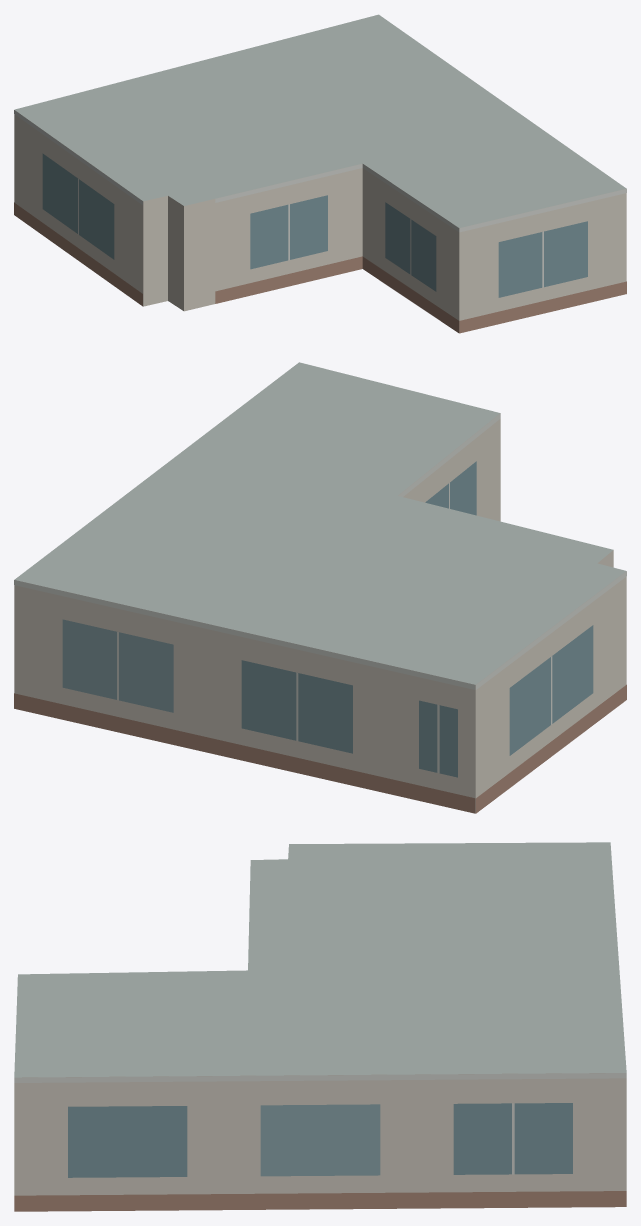
The model's file is survey-upis-32791115.glb.
3 views of the same model, one above another, from view 1: azimuth 30°, elevation 25°; view 2: azimuth 150°, elevation 25°; view 3: azimuth 270°, elevation 25° (orthographic). The views are drawn at different scales.
Parts seen in each view (by area): view 1: survey-upis-32791115.tmp; view 2: survey-upis-32791115.tmp; view 3: survey-upis-32791115.tmp.
Boxes of the visible parts, x1,y1,x2,y2 form: survey-upis-32791115.tmp: [14, 14, 626, 333]; survey-upis-32791115.tmp: [14, 362, 626, 813]; survey-upis-32791115.tmp: [14, 842, 626, 1211].
Bounding box in the file's own units: 11.49 × 3.05 × 12.64.
